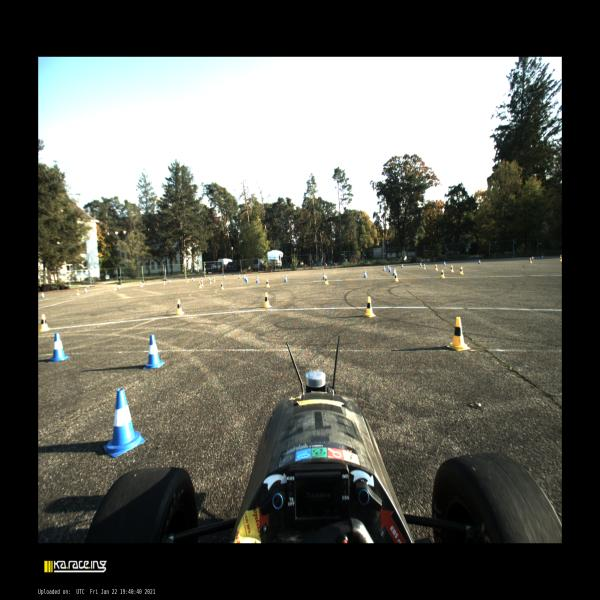blue_cone: (103, 389, 146, 457), (143, 334, 165, 370), (47, 334, 70, 362), (363, 271, 367, 278), (284, 275, 287, 282), (256, 277, 259, 283), (401, 263, 404, 268), (387, 265, 390, 270), (383, 266, 386, 271), (41, 293, 44, 298), (393, 268, 395, 275), (541, 255, 544, 259), (419, 262, 422, 266), (245, 276, 247, 282), (238, 274, 241, 278), (323, 273, 325, 279), (478, 259, 480, 264), (389, 267, 391, 272), (246, 277, 248, 282), (85, 288, 87, 293), (243, 275, 245, 279), (560, 254, 562, 258), (118, 284, 120, 288), (532, 256, 533, 260), (444, 261, 445, 265), (224, 275, 225, 279), (208, 276, 209, 280), (192, 277, 193, 281), (142, 282, 143, 286), (169, 280, 170, 283)
yellow_cone: (447, 317, 470, 350), (364, 297, 376, 317), (39, 315, 50, 331), (262, 292, 272, 308), (176, 300, 184, 314), (265, 280, 270, 288), (324, 276, 329, 284), (440, 270, 445, 278), (394, 273, 398, 282), (459, 267, 464, 274), (450, 265, 454, 272), (220, 282, 224, 289), (200, 281, 204, 286), (76, 290, 80, 295), (435, 264, 438, 270), (198, 282, 201, 288), (559, 256, 562, 262), (529, 258, 532, 263), (114, 285, 116, 291), (423, 264, 425, 269), (213, 277, 215, 282), (210, 279, 212, 284), (186, 278, 188, 283), (140, 283, 142, 287), (163, 280, 165, 284), (201, 278, 202, 281)
